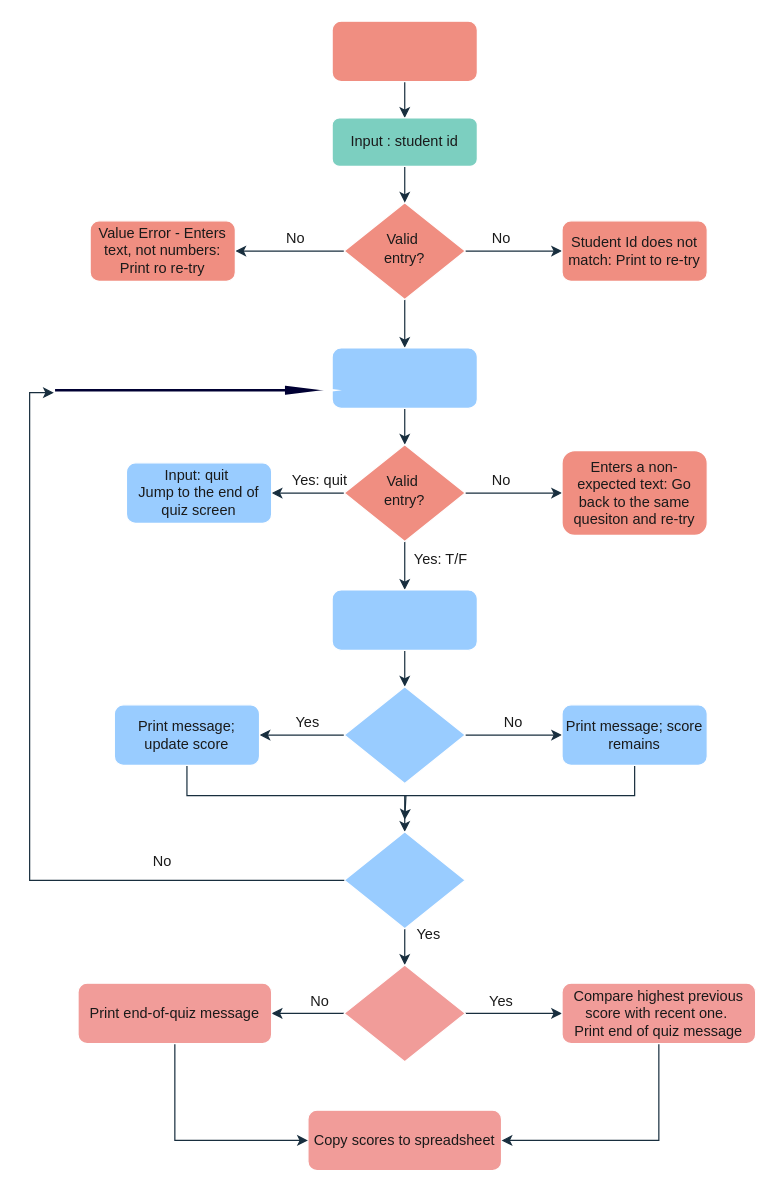
The diagram is 777 pixels wide and 1192 high, and some of its shapes have lost their labels. Each missing label, with the box of its shape:
Correct answer?: (343, 685, 465, 783)
Did they take the quiz before?: (343, 964, 465, 1062)
End of quiz?: (343, 831, 465, 929)
Input: T / F Check answer: (331, 589, 477, 650)
Print Question / input answer: (331, 347, 477, 408)
Welcome screen Intro and menu: (331, 20, 477, 82)
